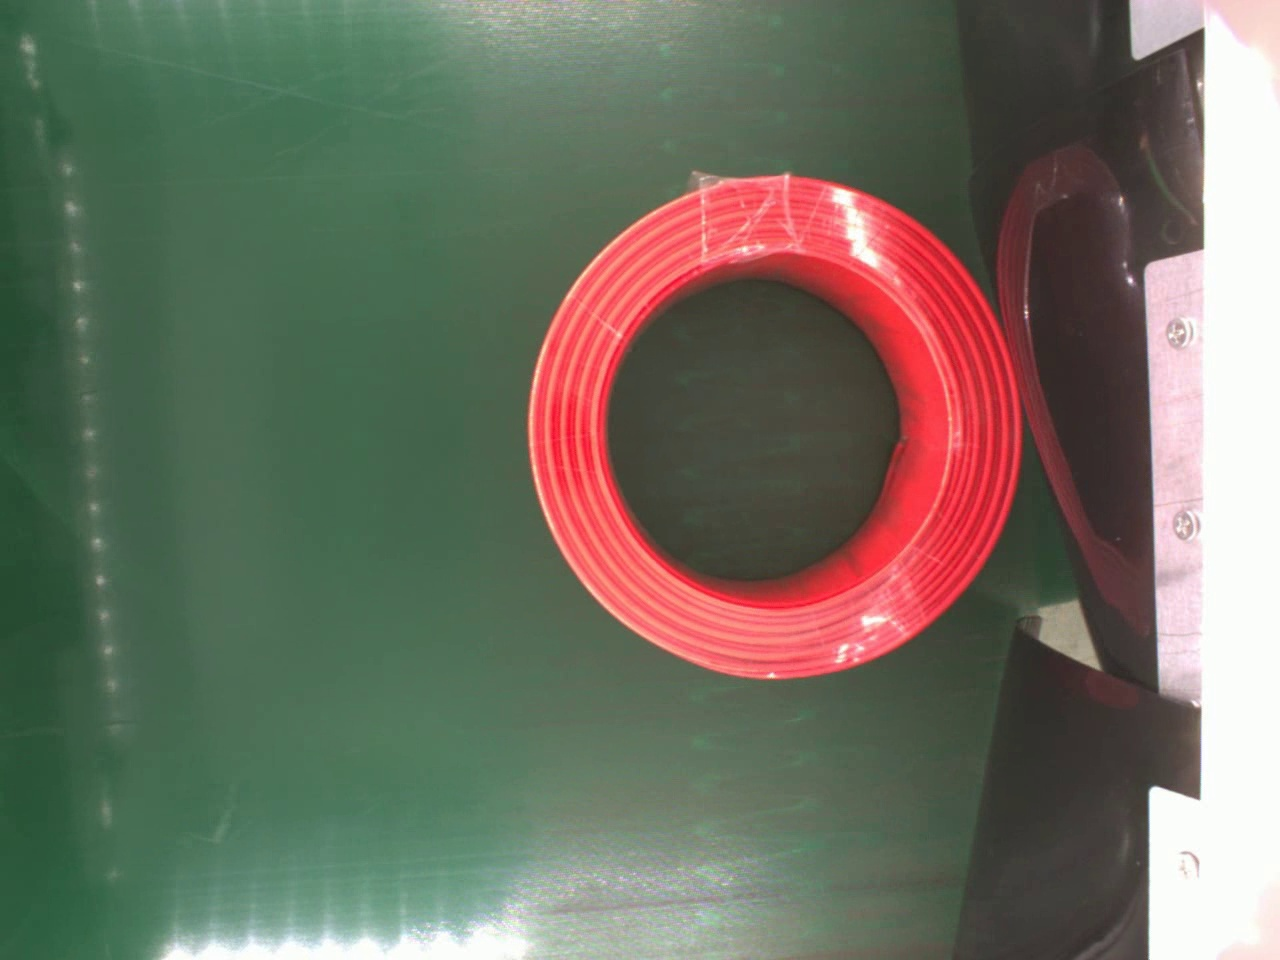red: (523, 170, 1024, 682)
